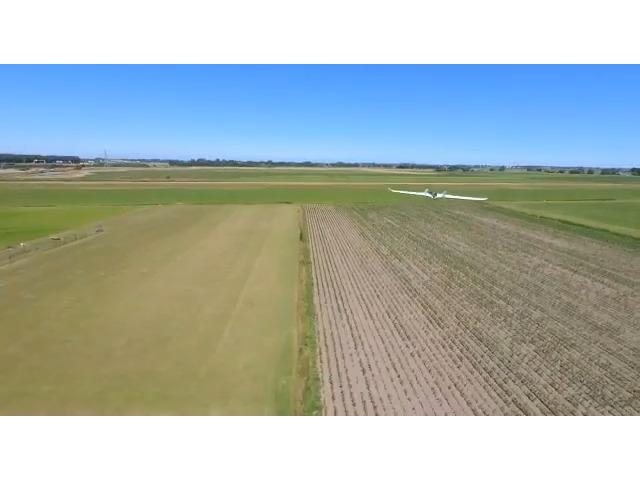Anti-Drone: (380, 176, 496, 214)
